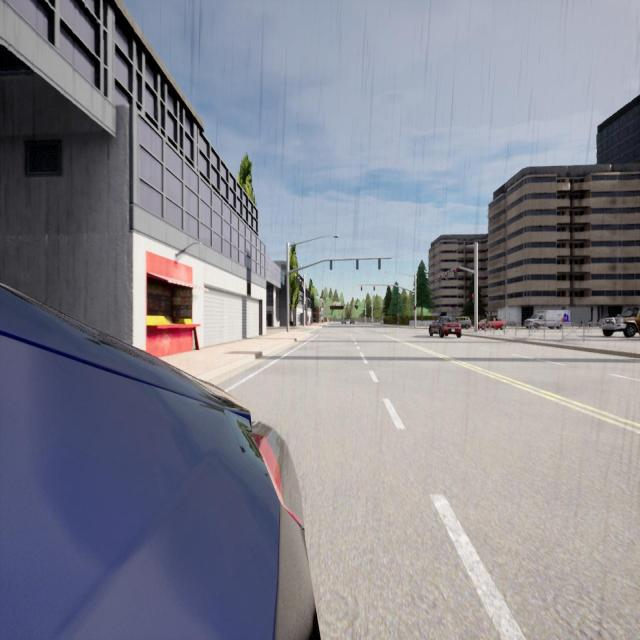Vehicle: (0, 284, 317, 638), (598, 306, 640, 337), (524, 309, 572, 330), (428, 316, 462, 338), (478, 314, 508, 330), (454, 316, 471, 329), (341, 320, 347, 325), (350, 318, 354, 324)
traffic_light: (378, 258, 381, 270), (356, 259, 359, 270), (444, 272, 448, 280), (453, 268, 456, 278), (438, 276, 442, 282), (472, 293, 474, 304), (330, 260, 332, 270), (374, 285, 376, 291), (414, 304, 416, 310), (388, 285, 390, 291), (361, 285, 362, 291)
